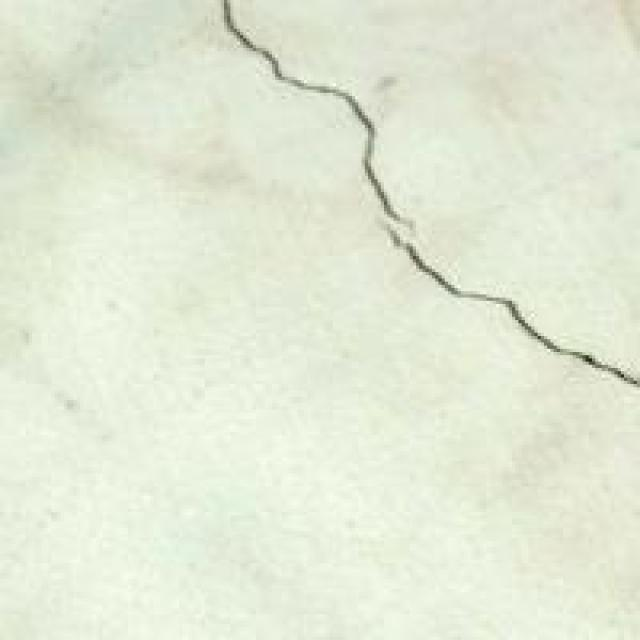Crack: (221, 0, 637, 397)
